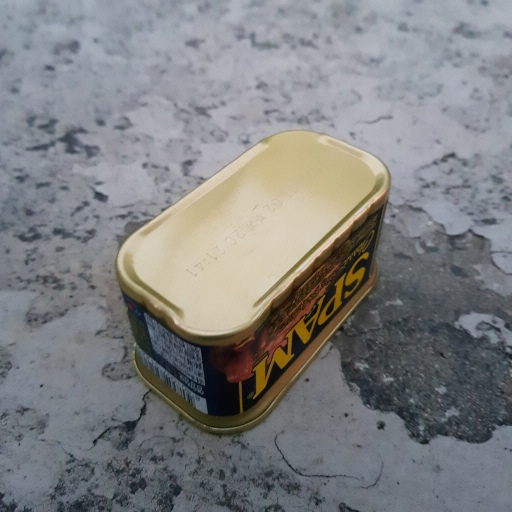Metal_2: (113, 125, 391, 439)
